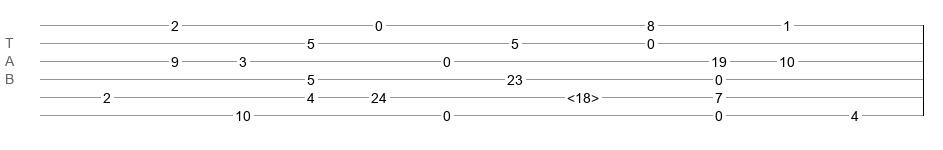0: (375, 18, 383, 28), (443, 108, 451, 118), (443, 54, 451, 64), (647, 36, 655, 46), (715, 108, 723, 118), (715, 72, 723, 82)
1: (783, 18, 791, 28)
10: (235, 108, 251, 118), (779, 54, 795, 64)
19: (711, 54, 727, 64)
2: (103, 90, 111, 100), (171, 18, 179, 28)
23: (507, 72, 523, 82)
24: (371, 90, 387, 100)
3: (239, 54, 247, 64)
4: (307, 90, 315, 100), (851, 108, 859, 118)
5: (307, 36, 315, 46), (307, 72, 315, 82), (511, 36, 519, 46)
7: (715, 90, 723, 100)
8: (647, 18, 655, 28)
9: (171, 54, 179, 64)
harmonic: (567, 90, 599, 100)
